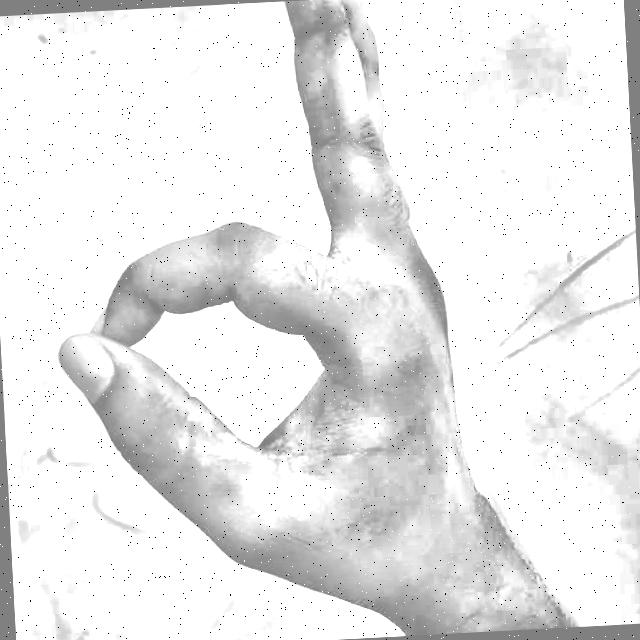Ca: (35, 0, 586, 640)
